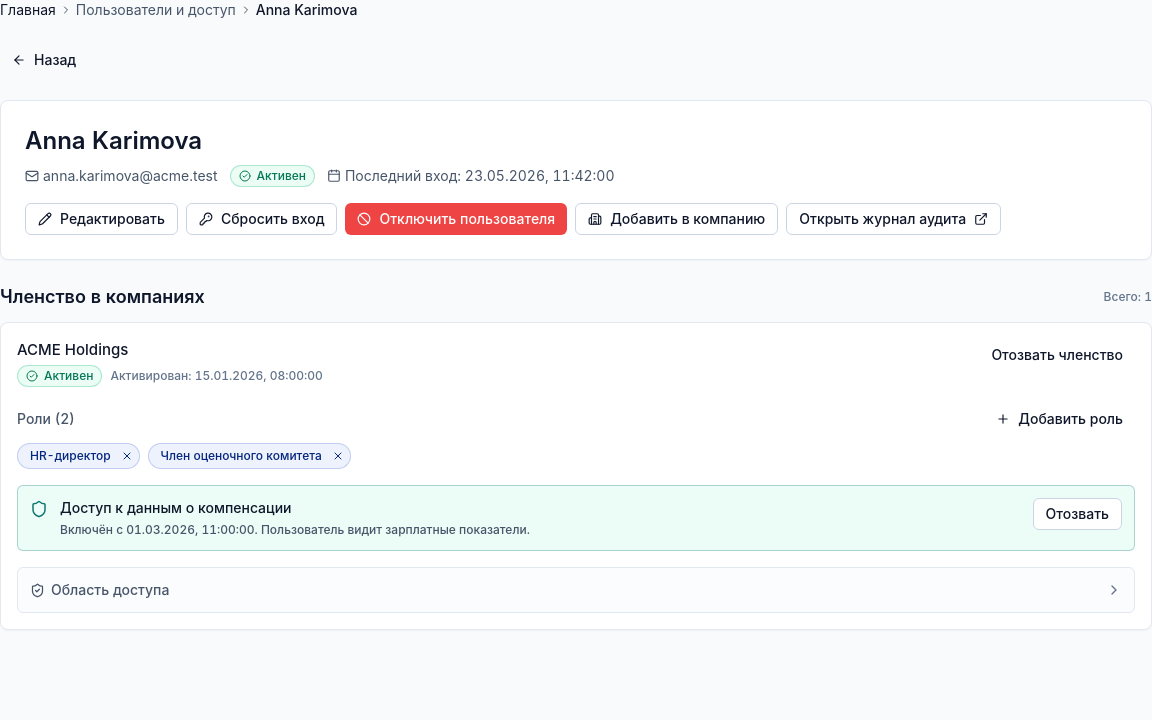
<UserDetailsPage /> user-level actions › disable flow confirms then flips the user status to DISABLED
The width and height of the screenshot is (1152, 720).
Expected: the heading "Anna Karimova" is shown, [25,126,202,155]
Click the button with test id "disable-user-button".
click(456, 219)  # box [346,203,567,235]
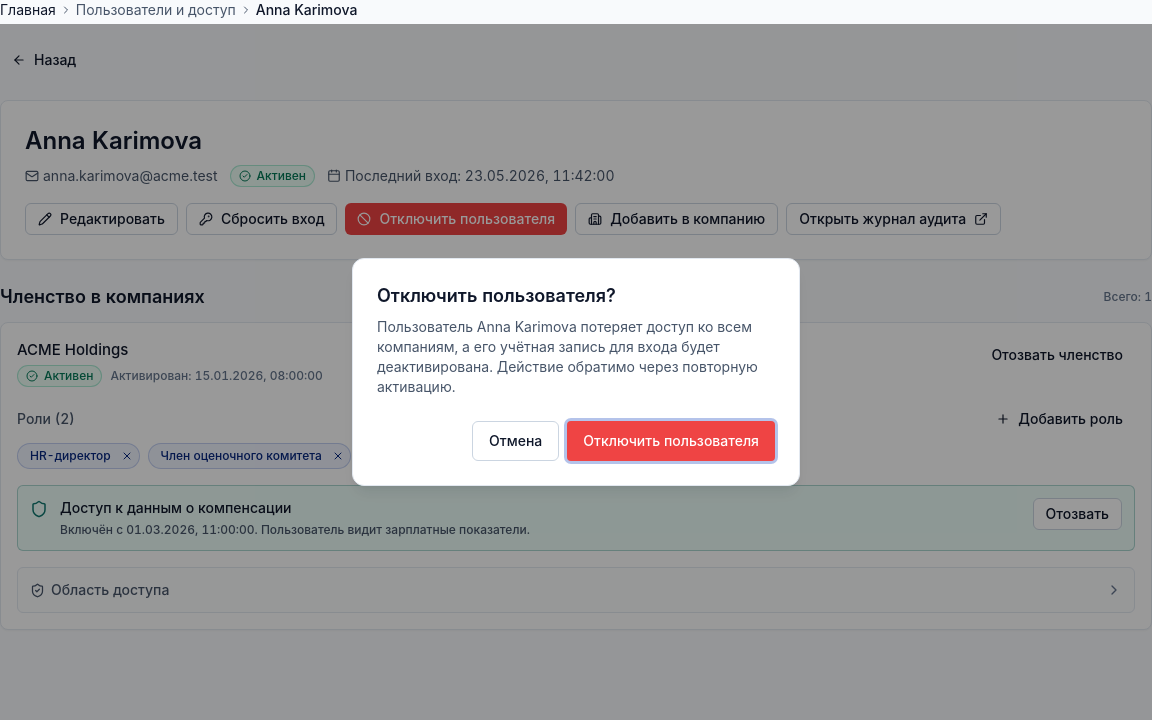
Click the button "Отключить пользователя".
click(671, 441)  # box [567,421,775,461]
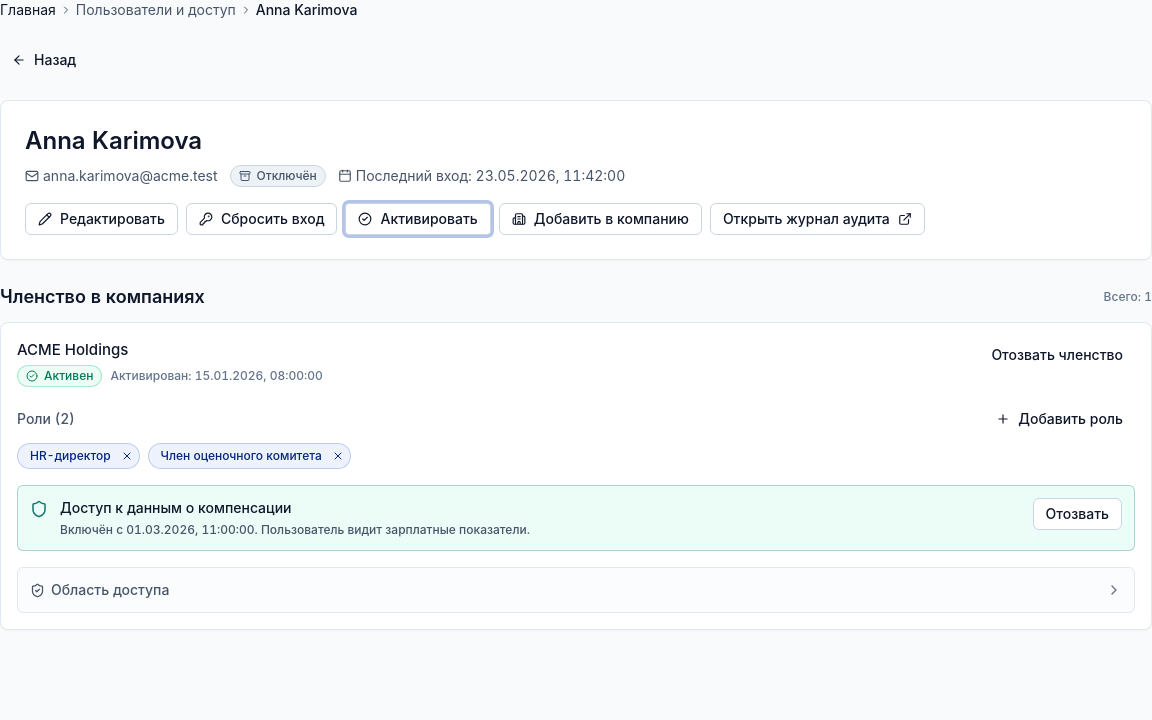
Result: the button with test id "reactivate-user-button" is shown at [346,203,491,235]
